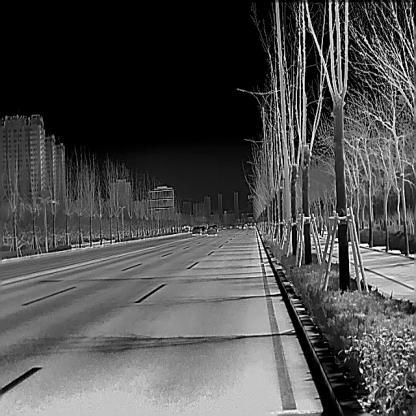car: (192, 225, 201, 236), (207, 225, 217, 234), (201, 225, 206, 235)
